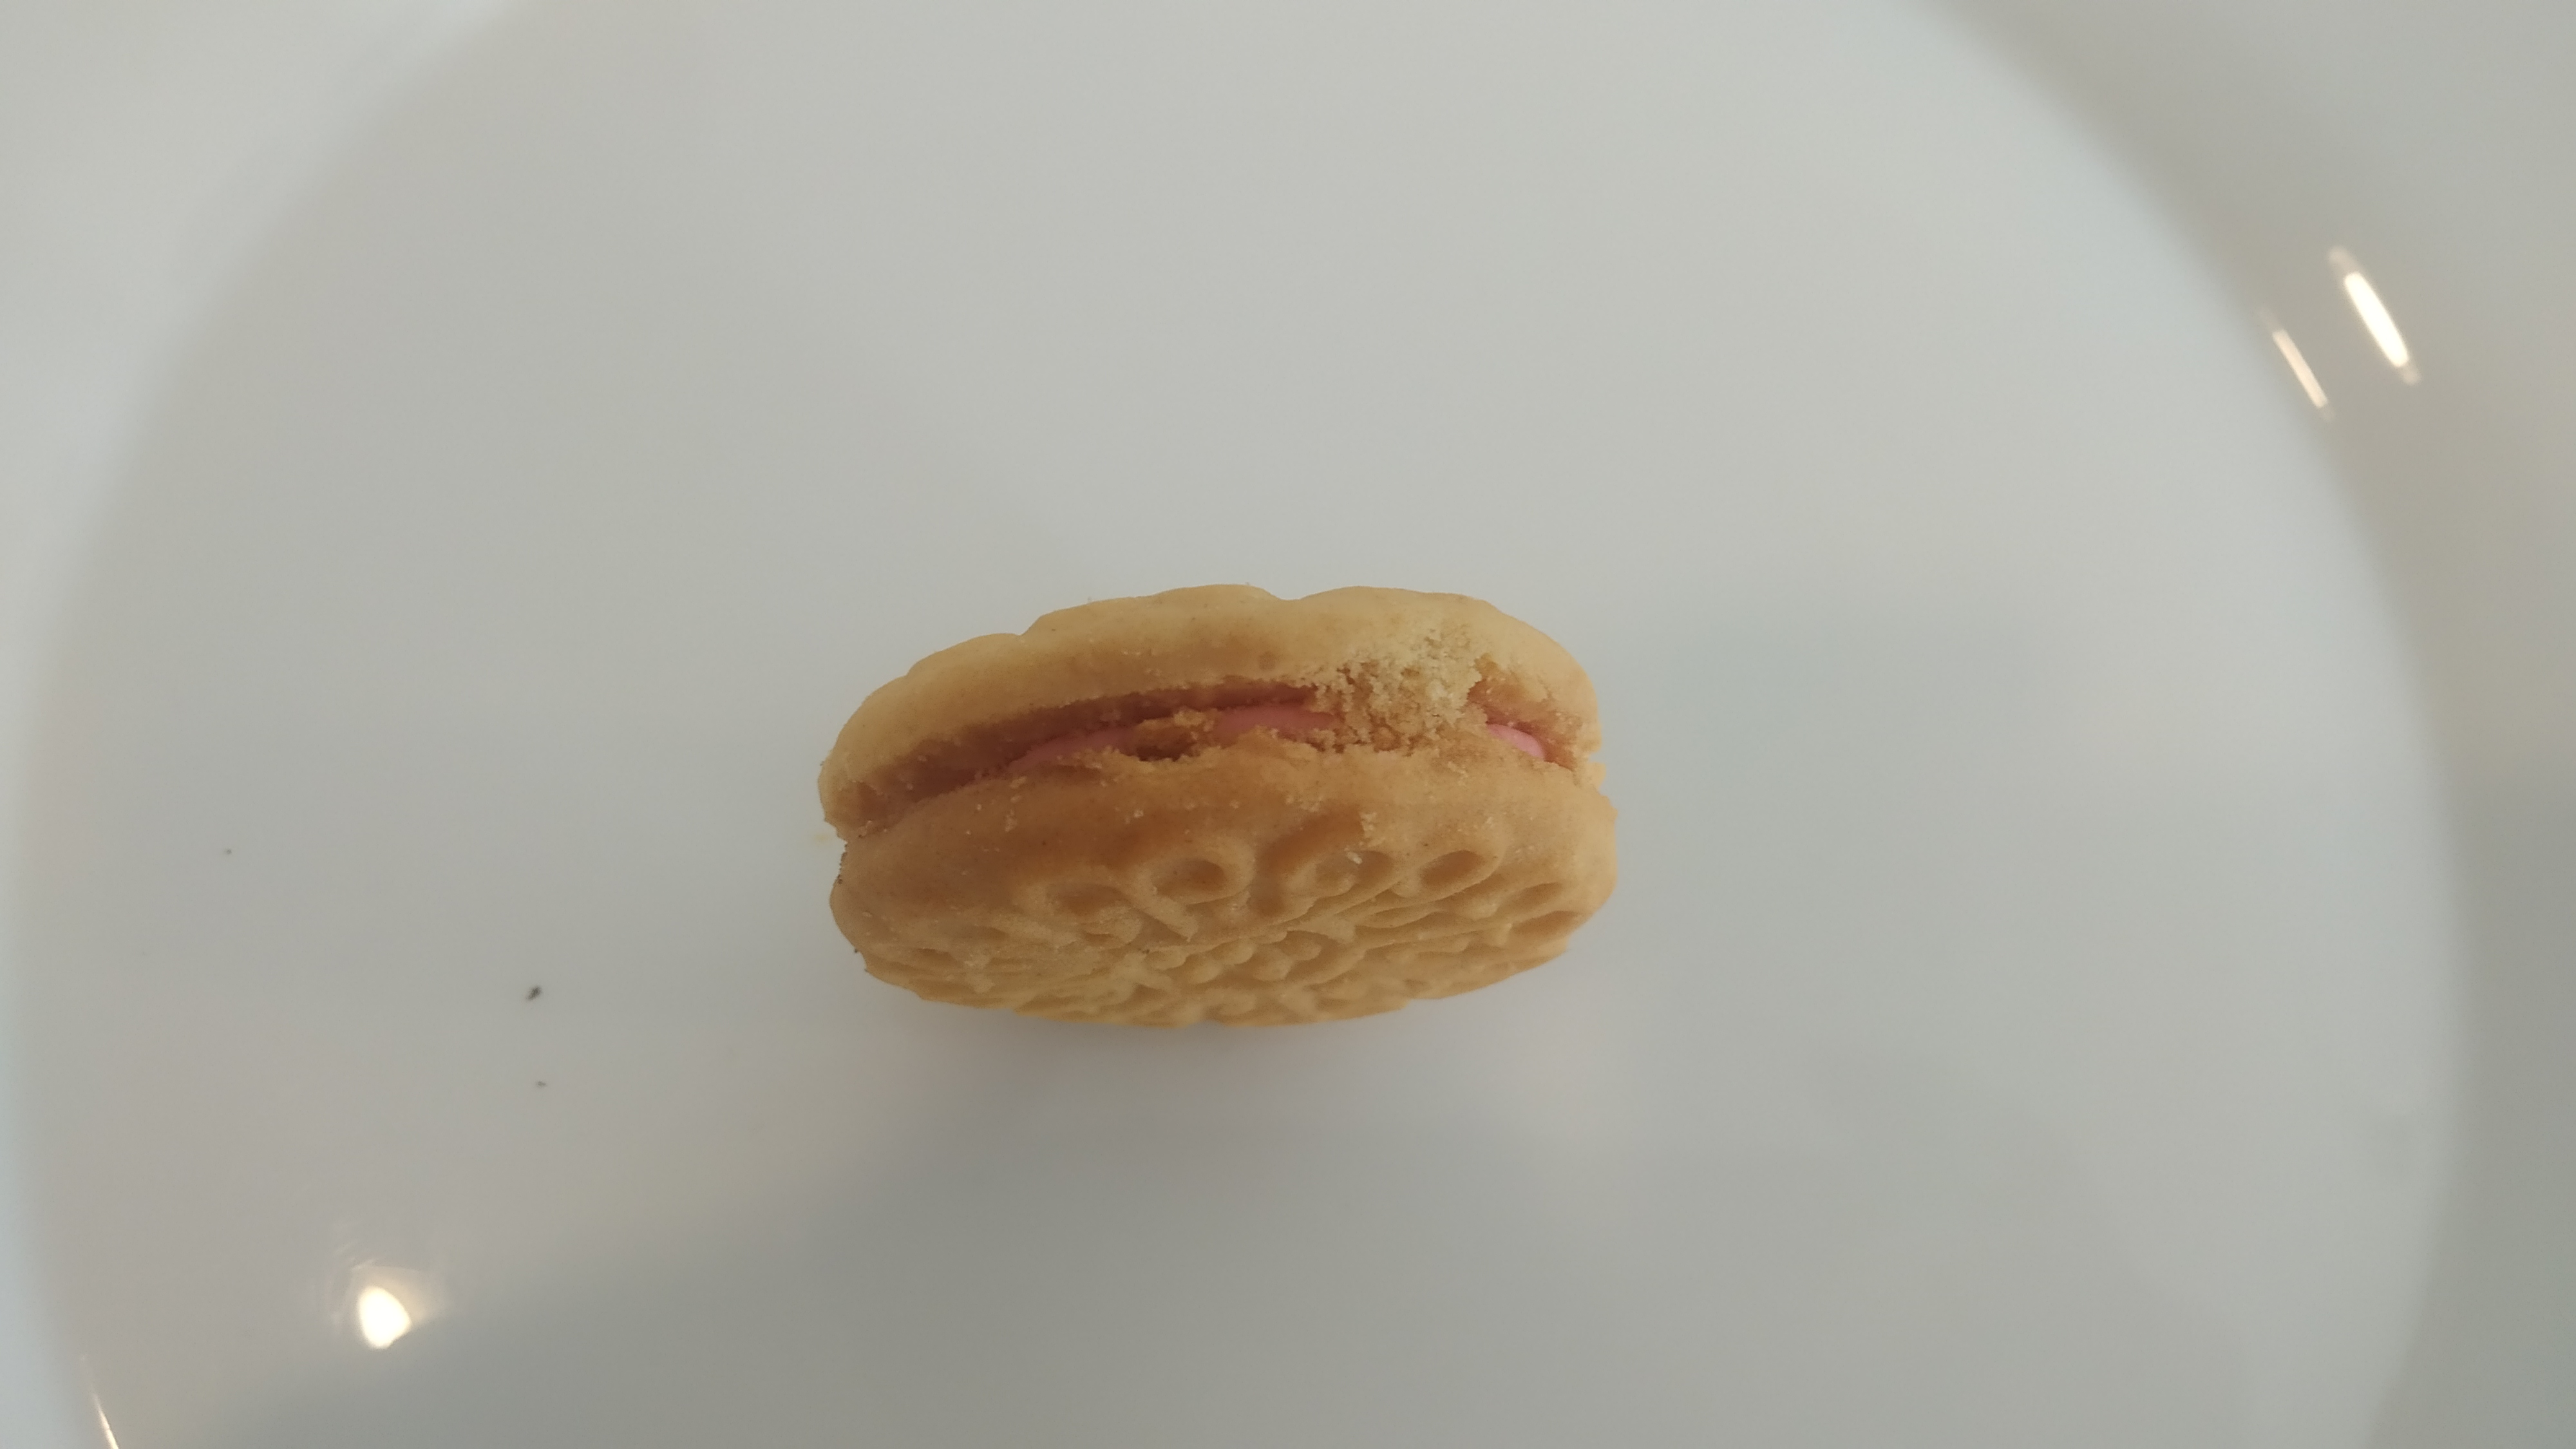lulu: (819, 582, 1621, 1031)
